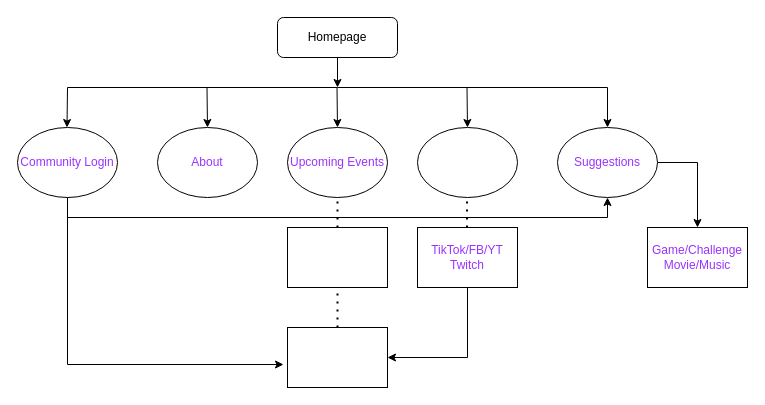
Some shapes in this 765 by 405 pixel diagram are drawn without their labels. Each missing label, with the centre of its shape:
"Scheduled Events" belongs at (x=337, y=257).
"SMS Notifications" belongs at (x=337, y=357).
"Social" belongs at (x=467, y=162).
